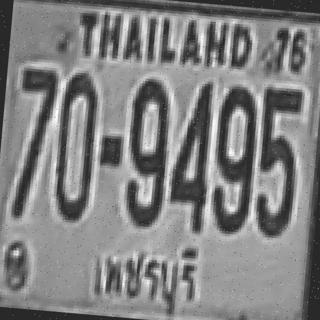N00: (50, 68, 102, 225)
N04: (167, 79, 218, 234)
N05: (252, 84, 305, 240)
N07: (6, 66, 58, 220)
N09: (120, 75, 175, 232), (206, 82, 260, 238)
P44: (78, 236, 207, 318)
